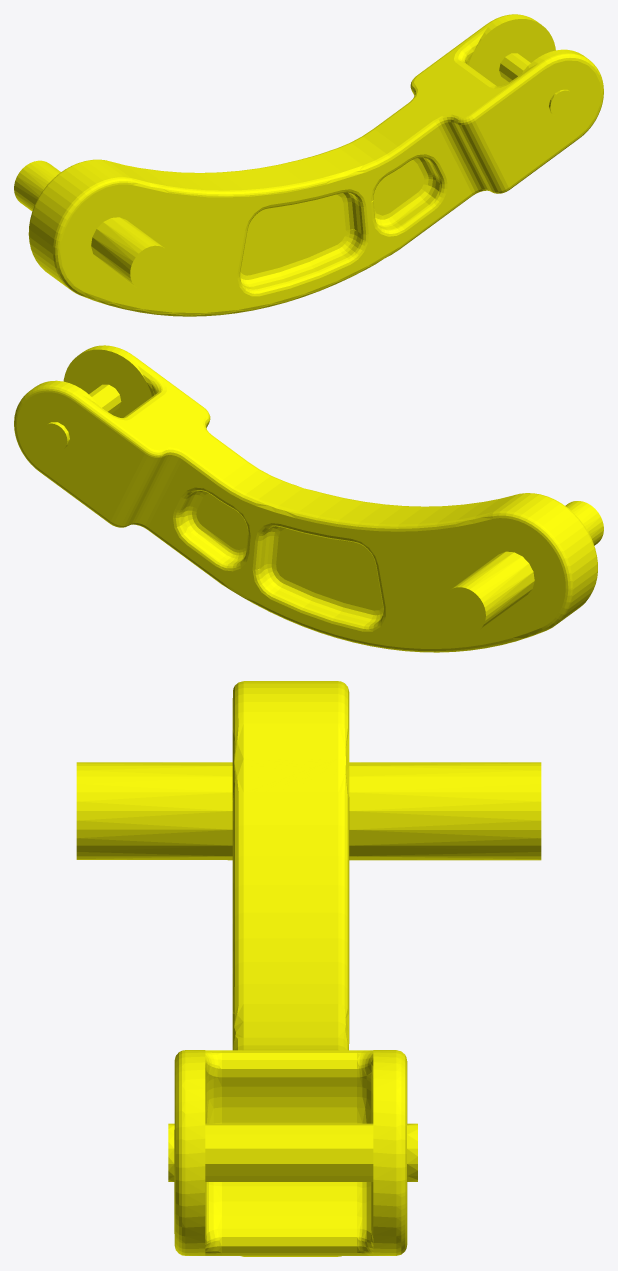
3 renders of one model, top to bottom at view 1: azimuth 30°, elevation 25°; view 2: azimuth 150°, elevation 25°; view 3: azimuth 270°, elevation 25°, orthographic. The views are drawn at different scales.
Visible parts, largest first — view 1: node; view 2: node; view 3: node.
Part boxes in pixels (bbox=[...]): node: bbox=[14, 14, 603, 316]; node: bbox=[14, 345, 603, 652]; node: bbox=[76, 681, 541, 1256].
Bounding box in the file's own units: 723 × 252 × 272.
